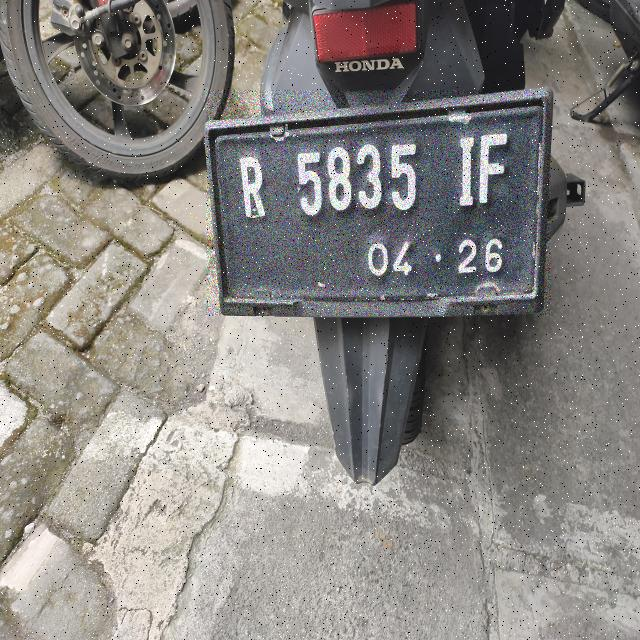plate: (207, 90, 550, 315)
